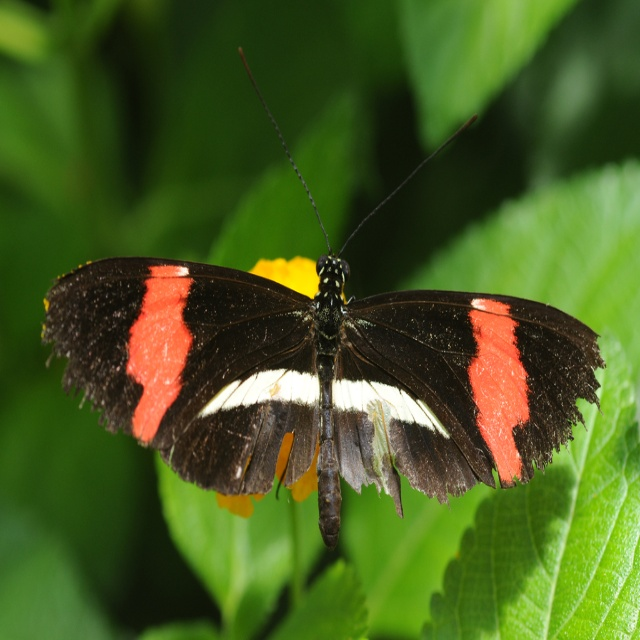Butterfly: (40, 47, 607, 545)
